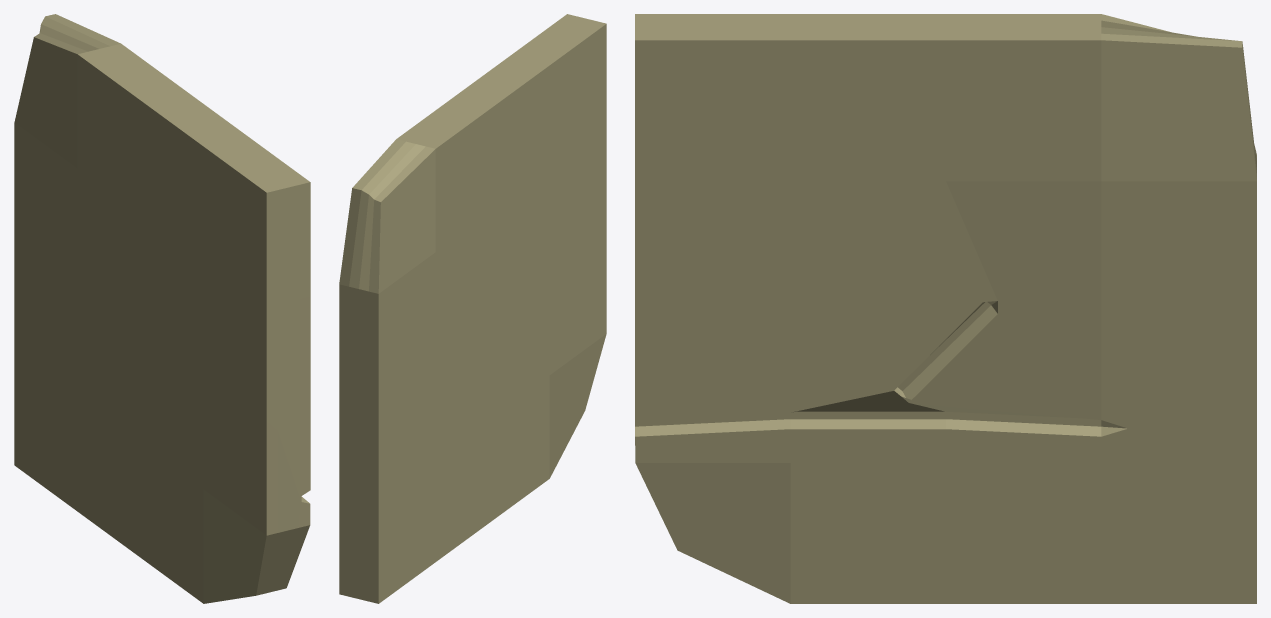
File: Electric.Piece.01.fbx
The picture shows the model from 3 angles, left to right: view 1: azimuth 30°, elevation 25°; view 2: azimuth 150°, elevation 25°; view 3: azimuth 270°, elevation 25°; orthographic projection. The views are drawn at different scales.
Parts seen in each view (by area): view 1: Elec.Piece.01; view 2: Elec.Piece.01; view 3: Elec.Piece.01.
Part boxes in pixels (x1,y1,x2,y2): Elec.Piece.01: [14, 14, 310, 603]; Elec.Piece.01: [339, 14, 606, 603]; Elec.Piece.01: [635, 14, 1256, 603].
Bounding box in the file's own units: 20 × 200 × 200.
